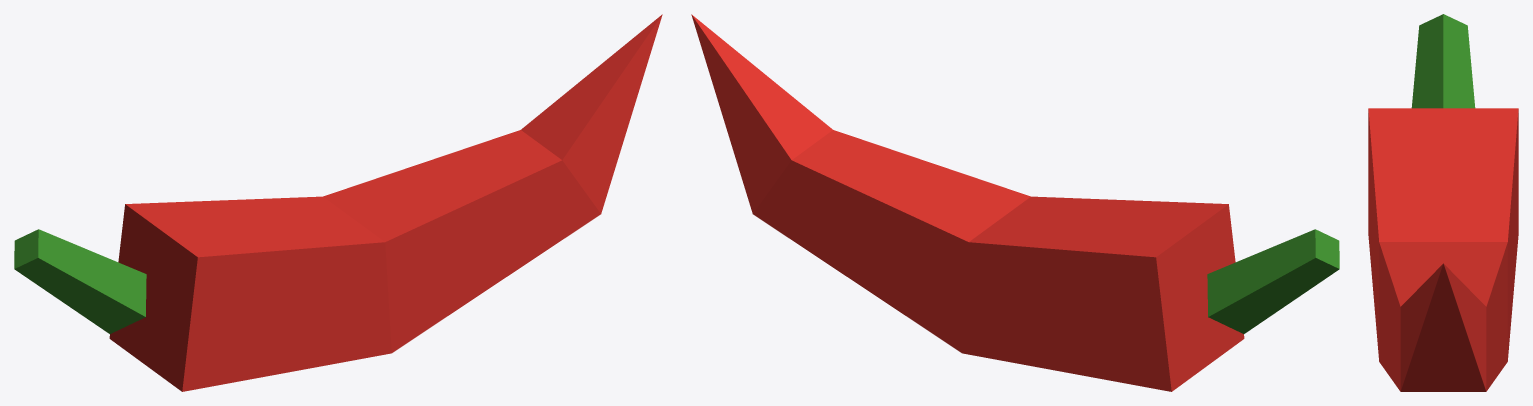
File: ChiliPepper.fbx
3 renders of one model, left to right at view 1: azimuth 30°, elevation 25°; view 2: azimuth 150°, elevation 25°; view 3: azimuth 270°, elevation 25°, orthographic. The views are drawn at different scales.
Visible parts, largest first — view 1: ChiliPepper; view 2: ChiliPepper; view 3: ChiliPepper.
Part boxes in pixels (x1=…): ChiliPepper: x1=14, y1=14, x2=662, y2=391; ChiliPepper: x1=691, y1=14, x2=1339, y2=391; ChiliPepper: x1=1368, y1=14, x2=1518, y2=391.
Bounding box in the file's own units: 1.27 × 0.4559 × 0.2475.
1 material, 1 textured.
